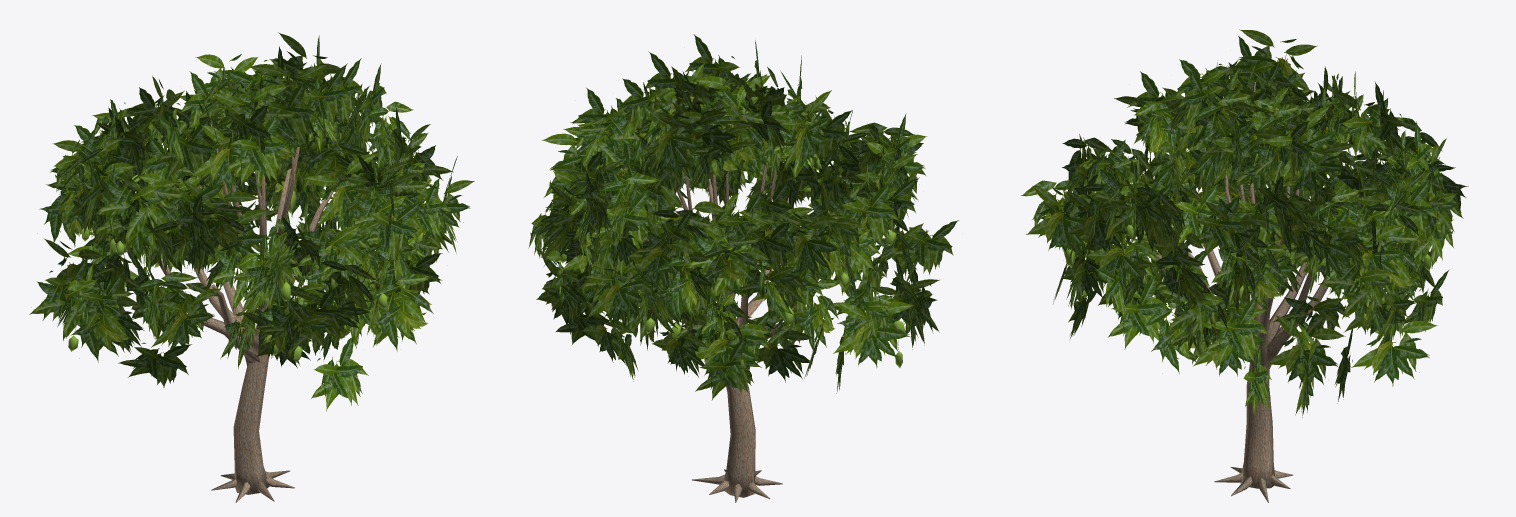
The model's file is MangoTree_Update_LOD1.fbx.
3 renders of one model, left to right at view 1: azimuth 30°, elevation 25°; view 2: azimuth 150°, elevation 25°; view 3: azimuth 270°, elevation 25°, orthographic.
Visible parts, largest first — view 1: Leaves_LOD1, Bark_LOD1, Fruit_Green_LOD1; view 2: Leaves_LOD1, Bark_LOD1, Fruit_Green_LOD1; view 3: Leaves_LOD1, Bark_LOD1, Fruit_Green_LOD1.
Part boxes in pixels (box(x1,y1,x2,y2)): Leaves_LOD1: box(29, 32, 474, 411); Bark_LOD1: box(74, 87, 418, 502); Fruit_Green_LOD1: box(68, 175, 425, 362); Leaves_LOD1: box(528, 34, 959, 400); Bark_LOD1: box(645, 157, 898, 502); Fruit_Green_LOD1: box(559, 158, 905, 367); Leaves_LOD1: box(1020, 29, 1468, 417); Bark_LOD1: box(1084, 82, 1427, 502); Fruit_Green_LOD1: box(1065, 191, 1431, 356).
Size of the model in its own units: 756 by 761 by 769.
